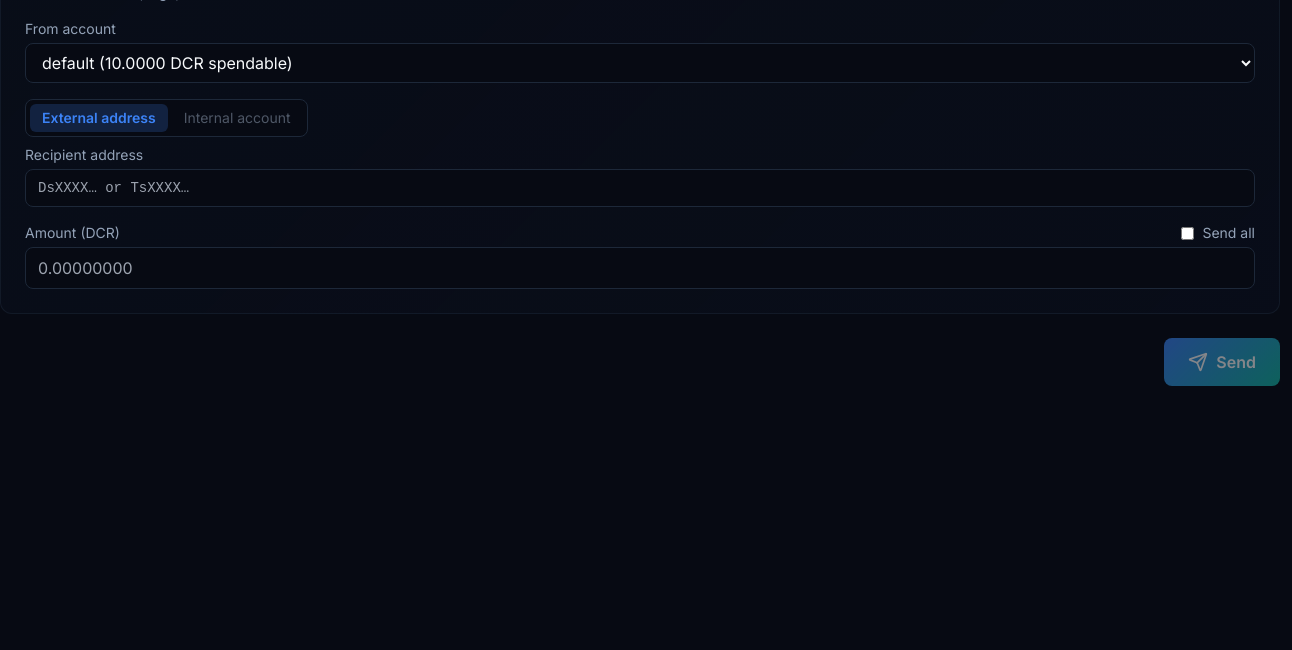
Test case: offers a transaction built for the form as it is
Type "DsAAA" into the field with placeholder "DsXXXX… or TsXXXX…". click: coordinates (640, 188)
box: 25,169 -> 1255,207
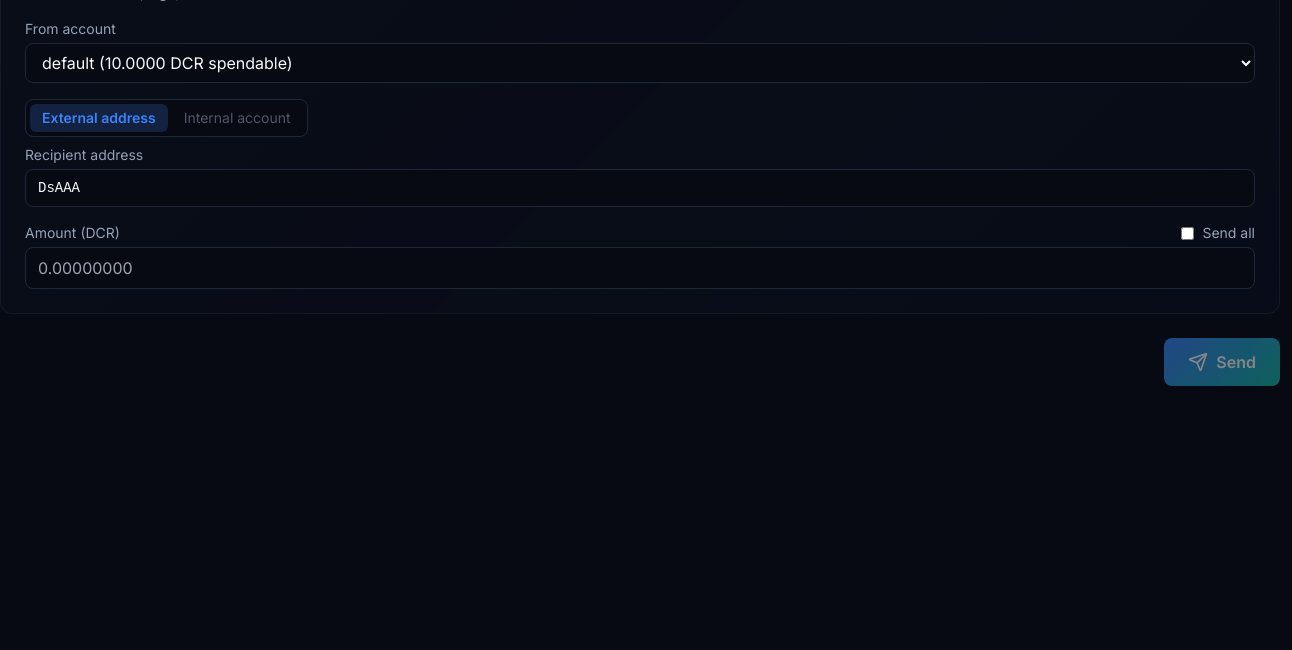
Type "1" into the field with placeholder "0.00000000". click: coordinates (640, 268)
box: 25,247 -> 1255,289
(page scrolled)
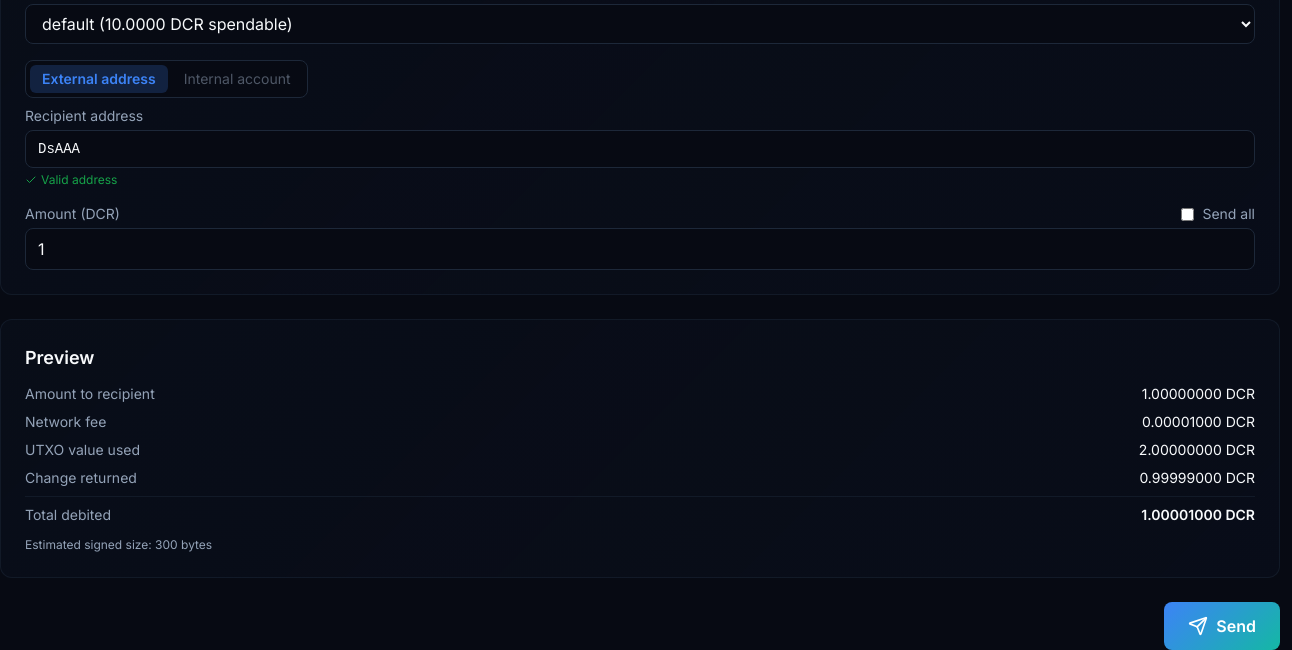
Result: the text "Total debited" is shown at 25,505 -> 111,525
Result: the button "Send" is enabled at 1164,602 -> 1280,649
